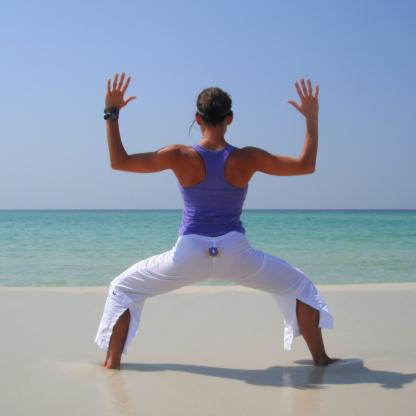godness: (80, 66, 348, 384)
